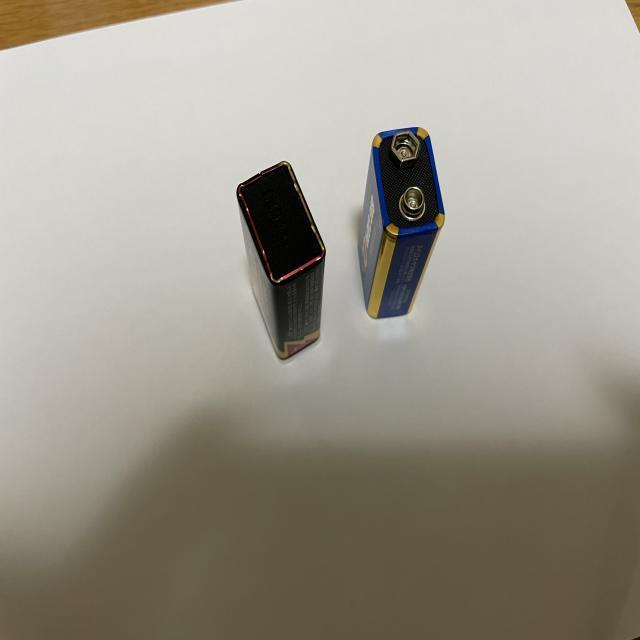9V: (233, 160, 328, 361), (356, 125, 447, 321)
